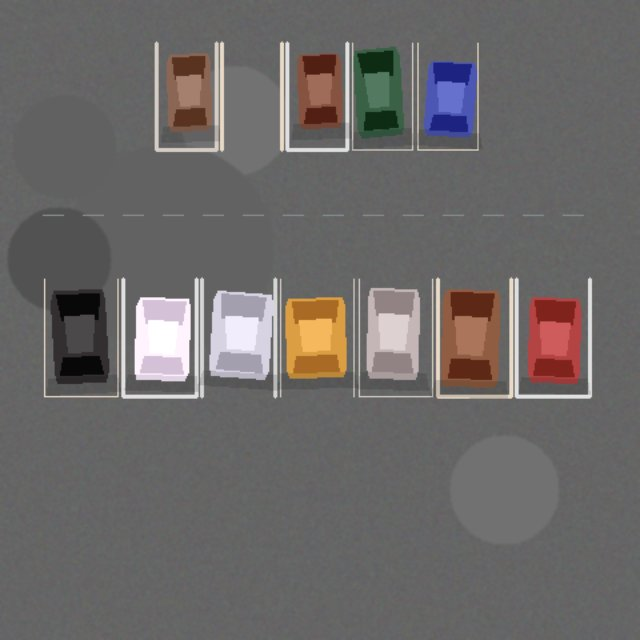space-empty: (221, 43, 281, 149)
space-occupied: (201, 279, 275, 396), (437, 279, 511, 396), (44, 279, 117, 396), (123, 279, 196, 396), (280, 279, 353, 396), (359, 279, 432, 396), (516, 279, 589, 396), (156, 43, 216, 149), (287, 43, 347, 149), (352, 43, 412, 149), (417, 43, 477, 149)
